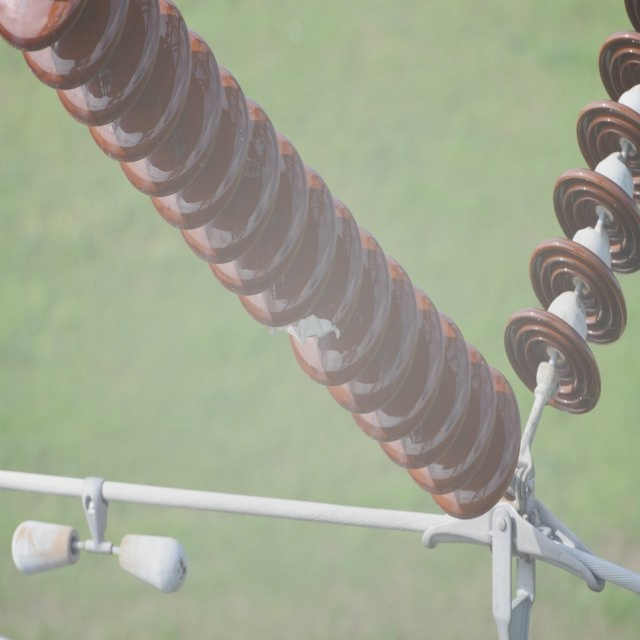broken: (265, 318, 344, 346)
insulator: (2, 0, 521, 521), (504, 0, 638, 415)
